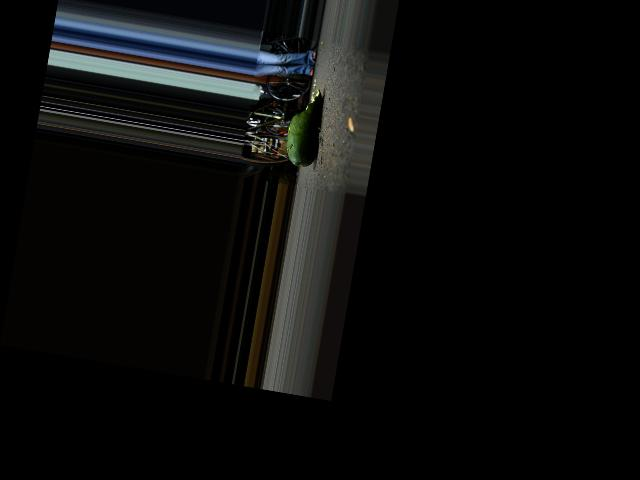cucumber: (283, 84, 327, 168)
